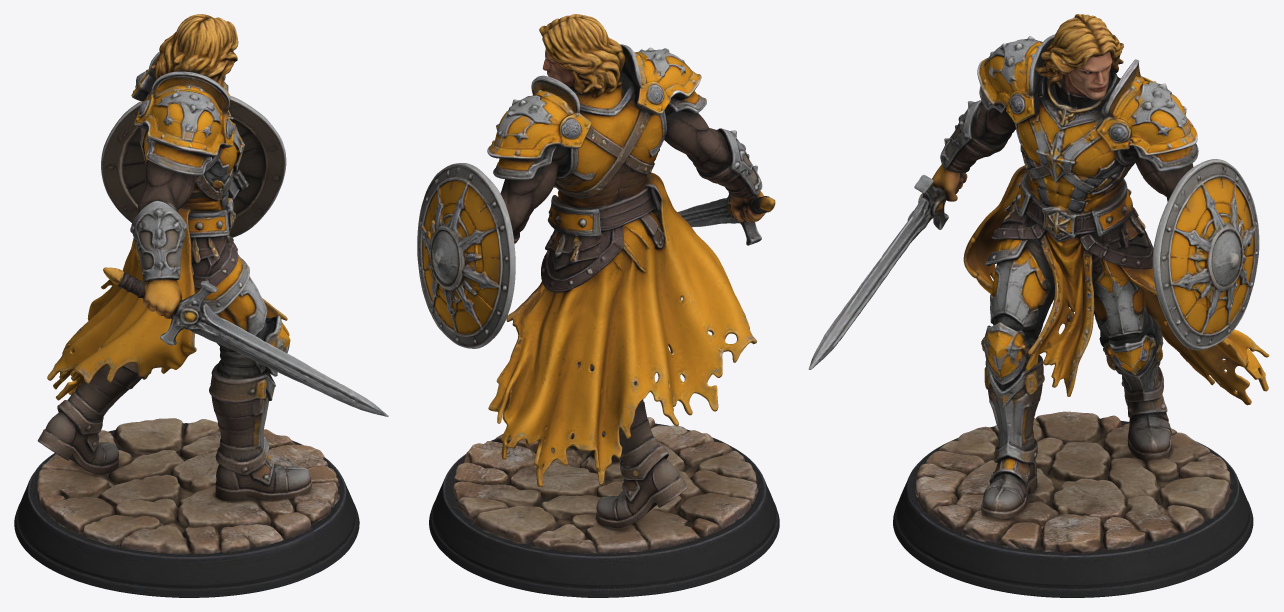
The model's file is inspiration-424.glb.
The picture shows the model from 3 angles, left to right: view 1: azimuth 30°, elevation 25°; view 2: azimuth 150°, elevation 25°; view 3: azimuth 270°, elevation 25°; orthographic projection. The views are drawn at different scales.
Visible parts, largest first — view 1: tripo_node_16b69513-0146-4a67-bde5-b44785dc5623; view 2: tripo_node_16b69513-0146-4a67-bde5-b44785dc5623; view 3: tripo_node_16b69513-0146-4a67-bde5-b44785dc5623.
Boxes of the visible parts, x1,y1,x2,y2 form: tripo_node_16b69513-0146-4a67-bde5-b44785dc5623: [14, 14, 388, 597]; tripo_node_16b69513-0146-4a67-bde5-b44785dc5623: [417, 14, 779, 597]; tripo_node_16b69513-0146-4a67-bde5-b44785dc5623: [808, 14, 1269, 597].
Size of the model in its own units: 0.6278 by 1 by 0.8111.
1 material, 1 textured.
